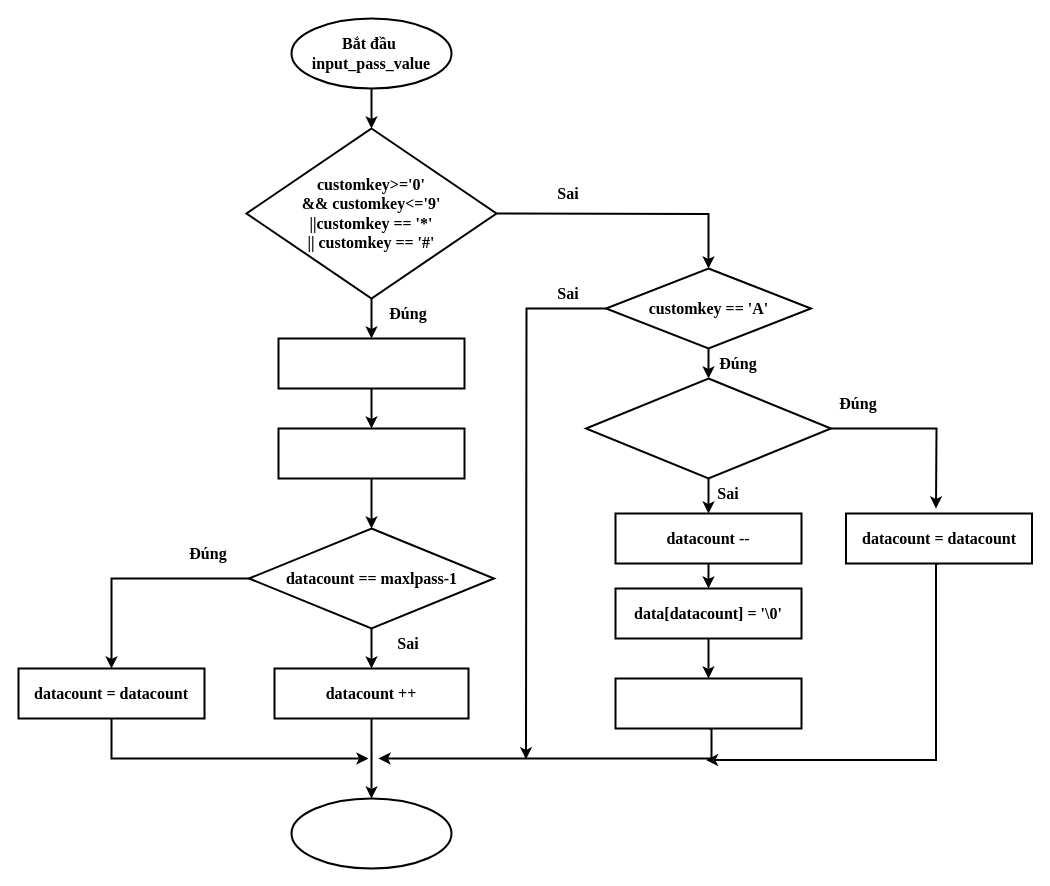
The diagram is 1050 pixels wide and 886 high, and some of its shapes have lost their labels. The centre of each missing label's shape, as x and y in pixels:
"data[datacount] = customkey" belongs at (x=371, y=363).
"datacount == 0" belongs at (x=708, y=428).
"hiển thị kí tự lên LCD và ẩn kí tự" belongs at (x=371, y=453).
"hiển thị kí tự trống lên LCD" belongs at (x=708, y=703).
"Kết thúc input_pass_value" belongs at (x=371, y=833).
